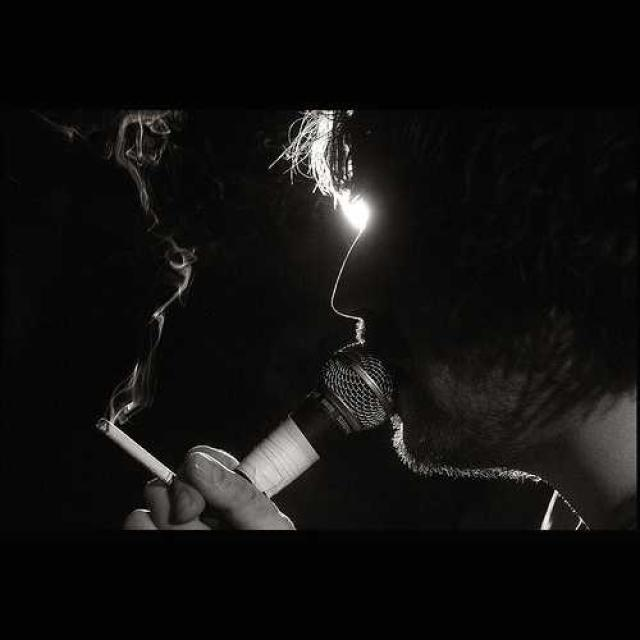microphone: (208, 346, 398, 510)
